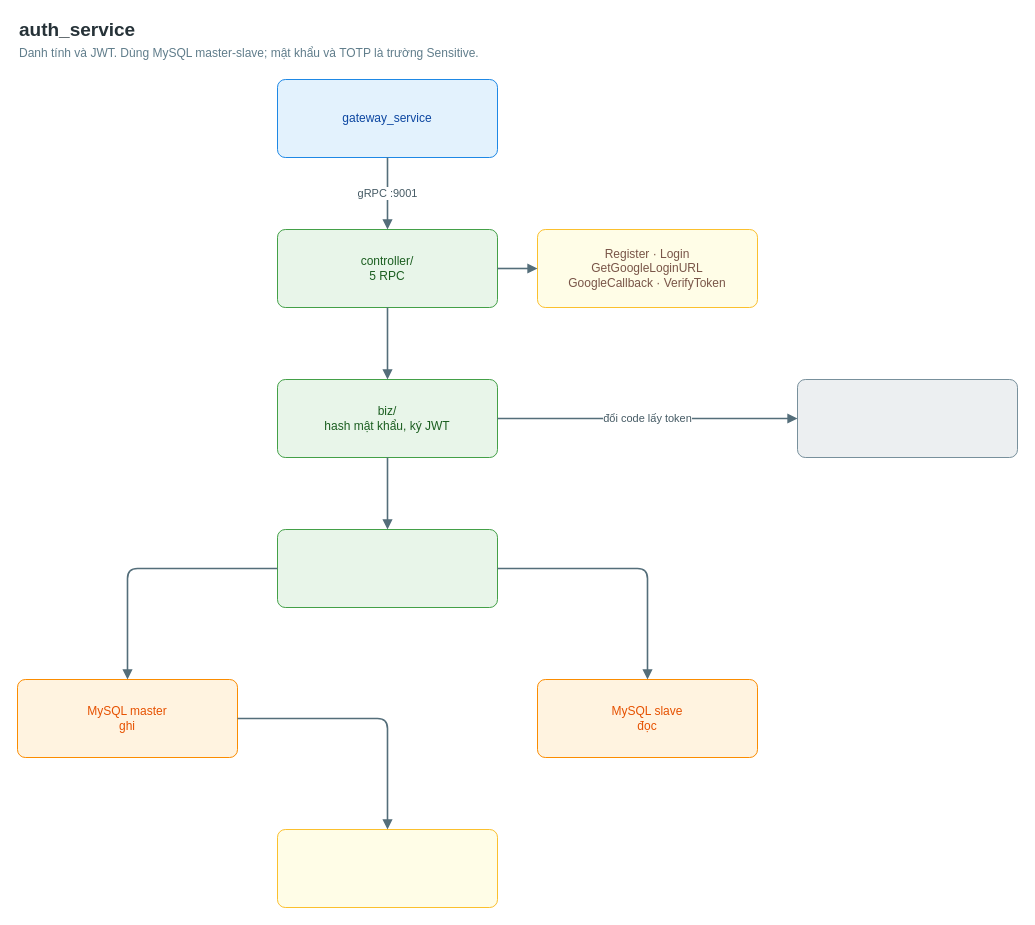
Image size: 1035x925. Some labels were removed from this diagram. The shapes that lost their labels are listed below. From the top down, each one's box as (x1, y1, x2, y2) in pixels, then its label:
(796, 378, 1018, 458): Google OAuth2
(276, 528, 498, 608): repo/
(276, 828, 498, 908): users (password, totp_secret = Sensitive)
